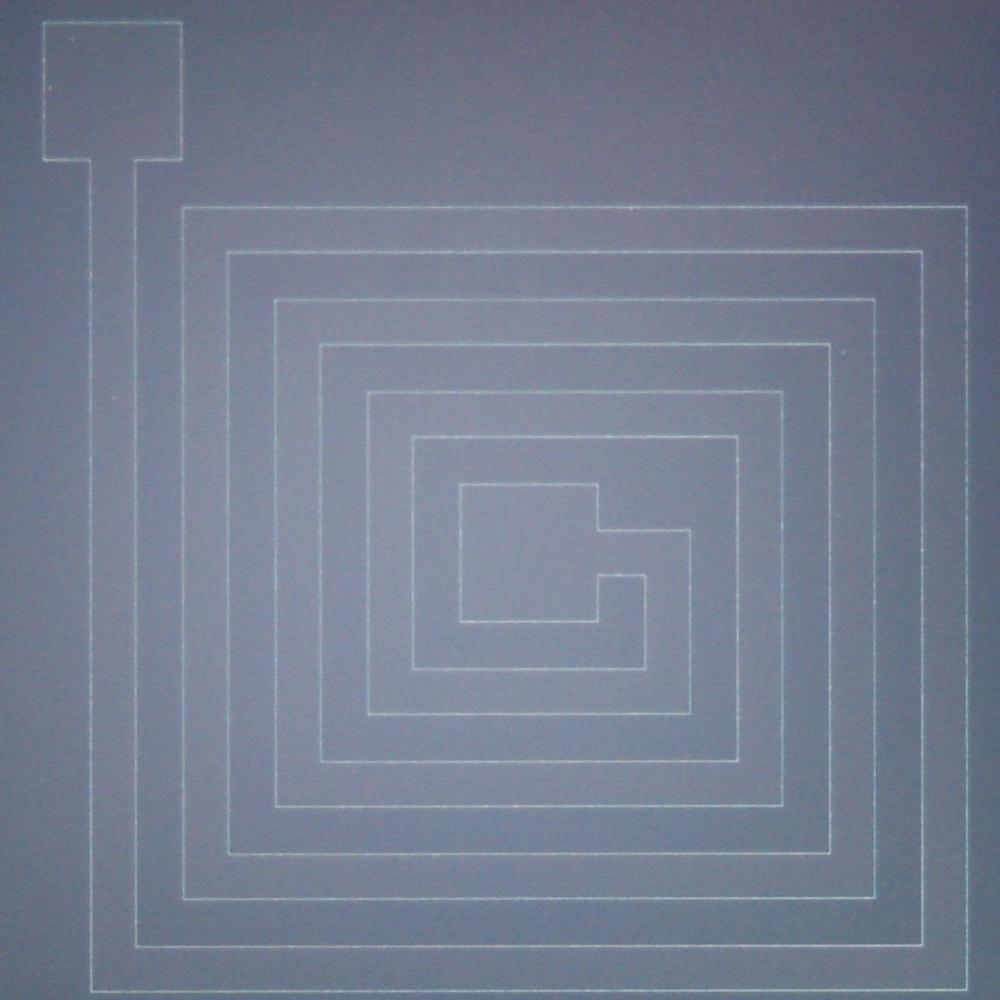dot: (840, 350, 846, 355)
